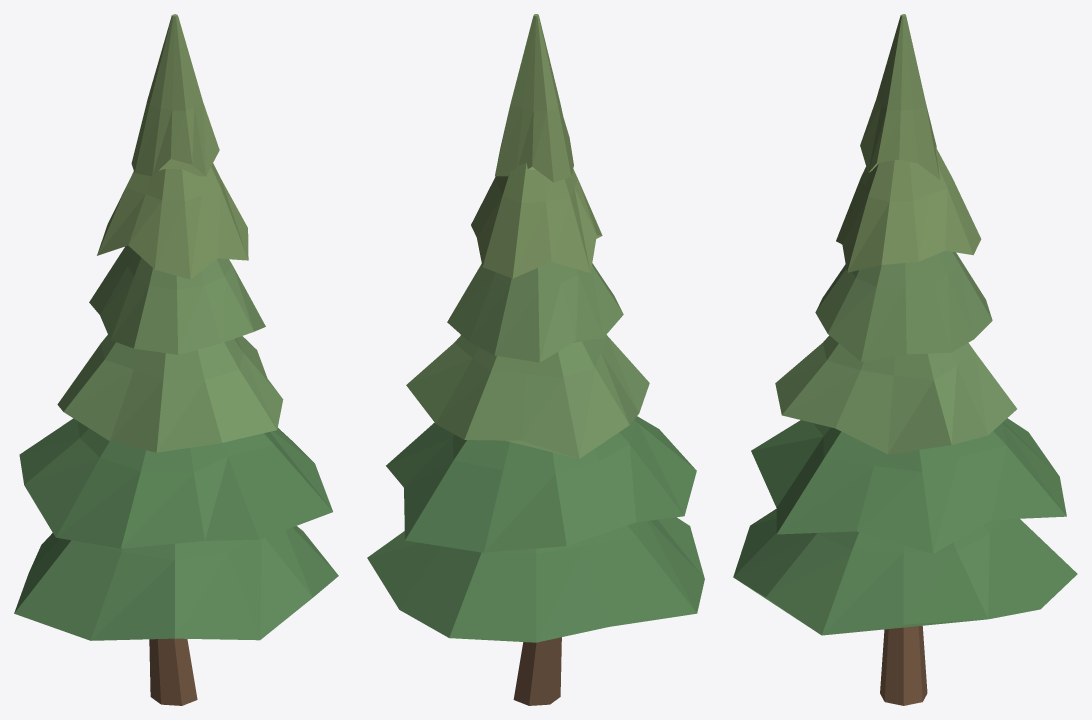
File: Pine_Large.fbx
3 renders of one model, left to right at view 1: azimuth 30°, elevation 25°; view 2: azimuth 150°, elevation 25°; view 3: azimuth 270°, elevation 25°, orthographic.
Visible parts, largest first — view 1: Pine_Large; view 2: Pine_Large; view 3: Pine_Large.
Part boxes in pixels (bbox=[...]): Pine_Large: bbox=[14, 14, 338, 705]; Pine_Large: bbox=[367, 14, 704, 705]; Pine_Large: bbox=[733, 14, 1077, 705].
Size of the model in its own units: 332 by 728 by 334.
